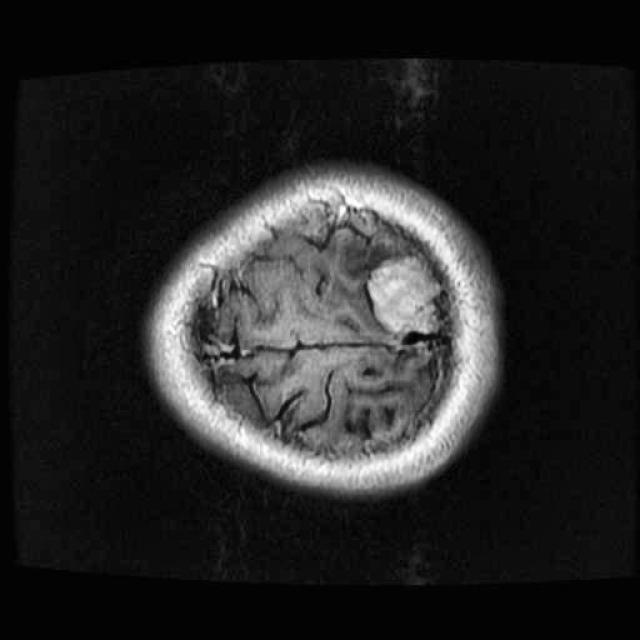Tumor: (360, 250, 451, 354)
